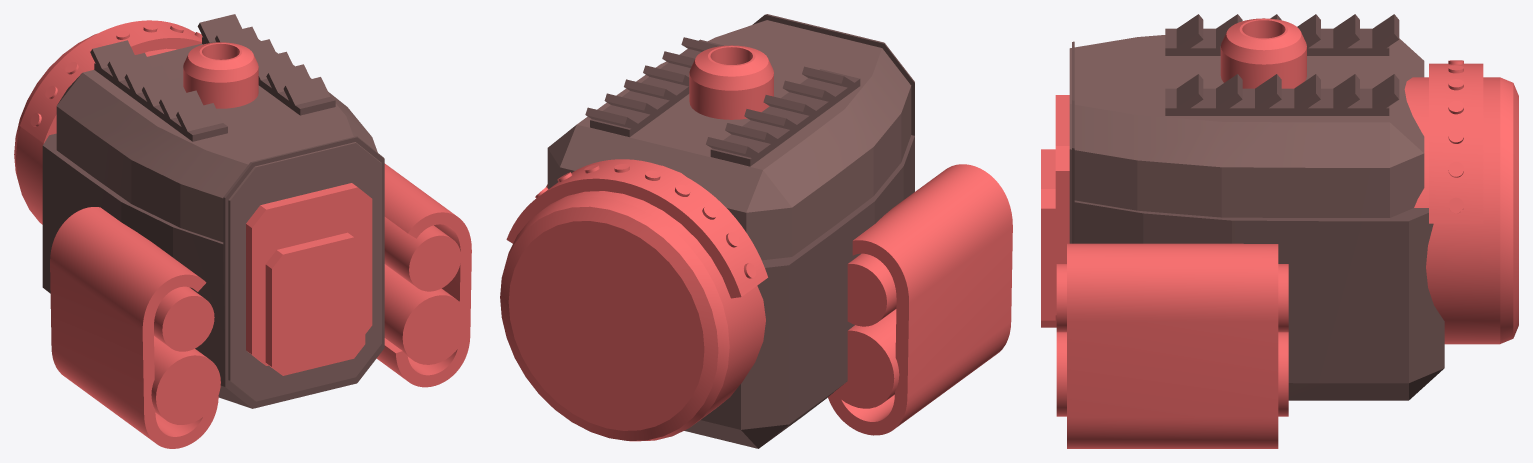
Rendered from Engine v2 front export.fbx.
The picture shows the model from 3 angles, left to right: view 1: azimuth 30°, elevation 25°; view 2: azimuth 150°, elevation 25°; view 3: azimuth 270°, elevation 25°; orthographic projection. The views are drawn at different scales.
Parts seen in each view (by area): view 1: Null_2, Null_1, Symmetry_1; view 2: Null_2, Null_1, Symmetry_1; view 3: Null_2, Symmetry_1, Null_1.
Boxes of the visible parts, x1,y1,x2,y2 form: Null_2: (14,20,471,448); Null_1: (56,39,381,401); Symmetry_1: (42,14,384,408); Null_2: (500,45,1012,441); Null_1: (547,20,911,260); Symmetry_1: (585,14,914,448); Null_2: (1041,18,1518,448); Symmetry_1: (1072,14,1444,400); Null_1: (1069,35,1424,243).
Size of the model in its own units: 55.41 by 48.58 by 61.04.
